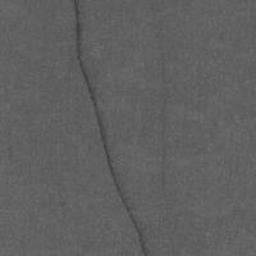Inclusion: (72, 0, 152, 256)
